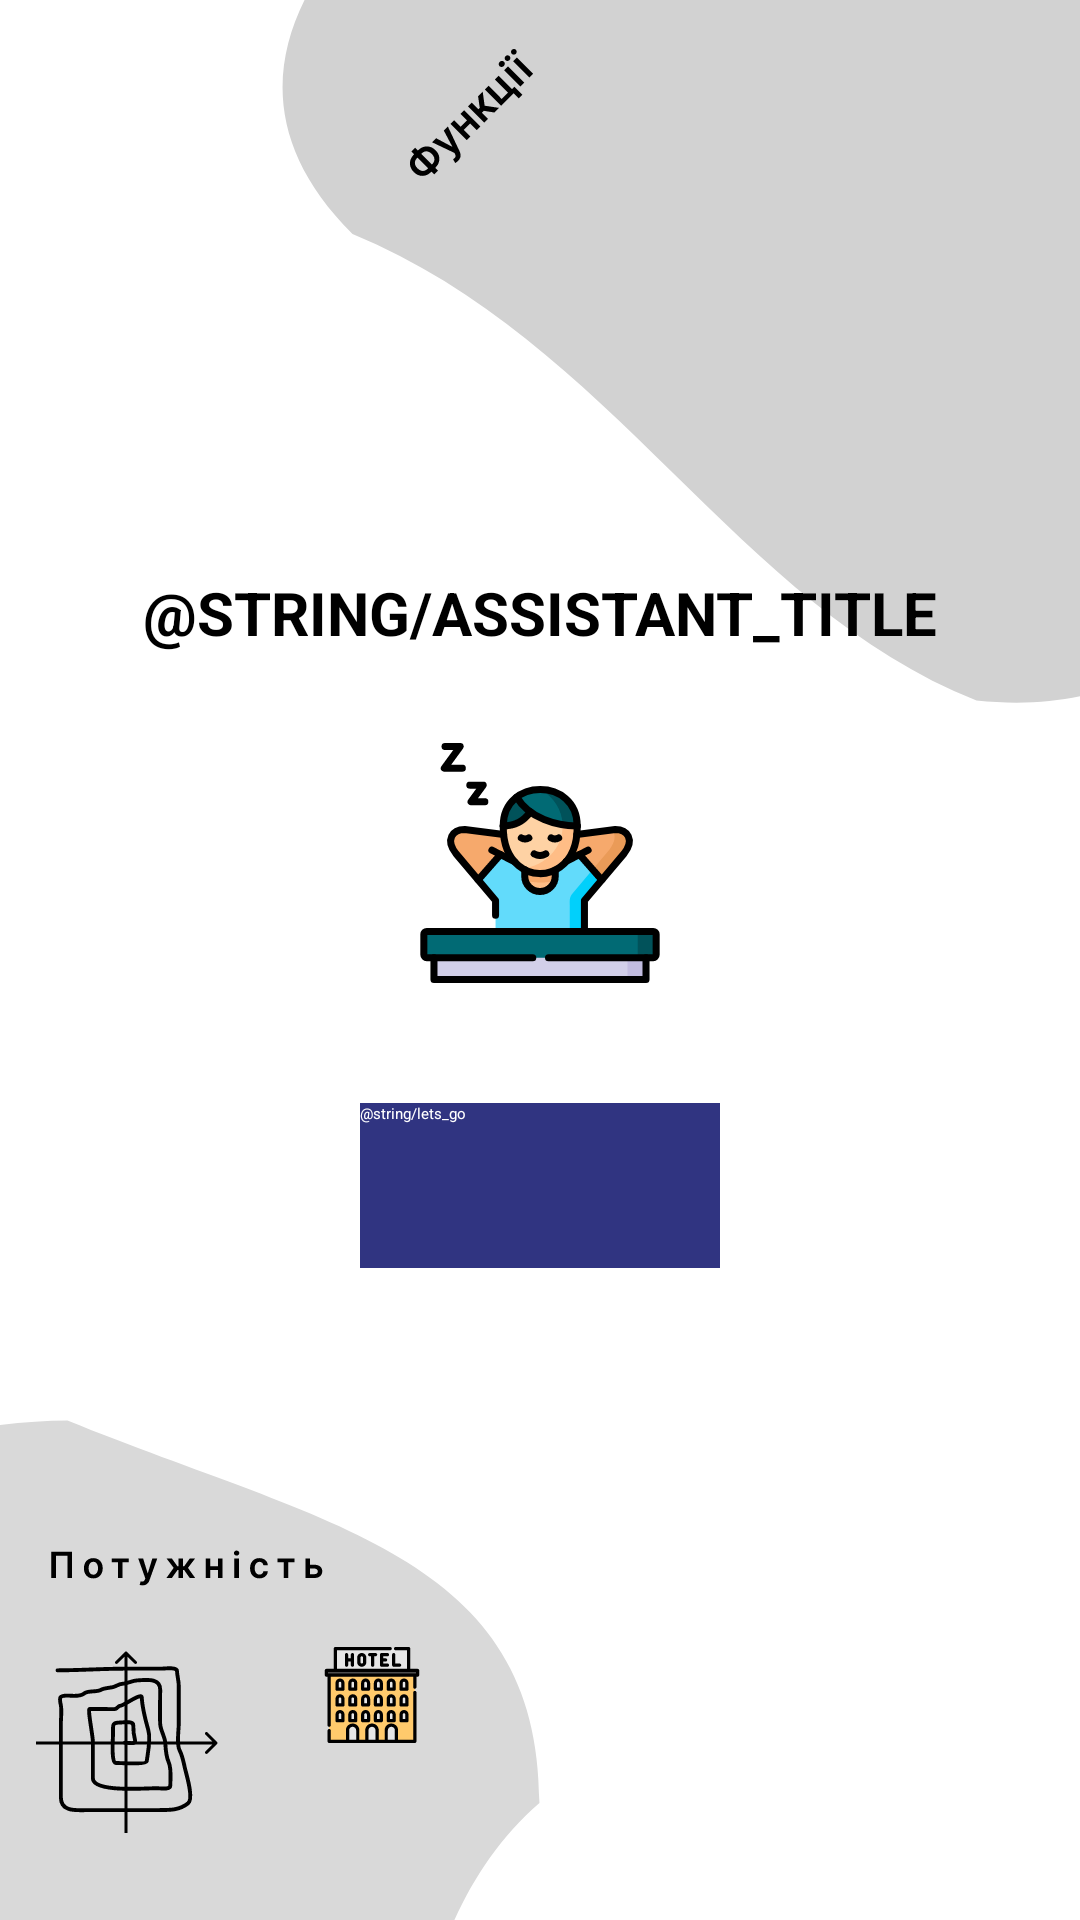

Where icons sit on this 1080 x 1920 app screen, as {"left": x1, "top": y1, "right": x2, "bottom": y2}:
lazy: {"left": 420, "top": 743, "right": 660, "bottom": 983}
